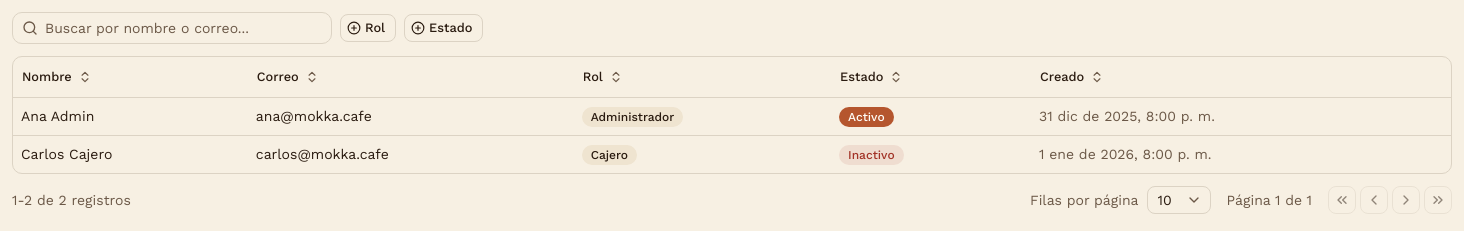
Test: UsersTable › filtra por texto libre usando el buscador
Type "carlos" into the field with placeholder "Buscar por nombre o correo...".
click(172, 28); type("carlos")  # box top-left (12, 12), bottom-right (332, 44)
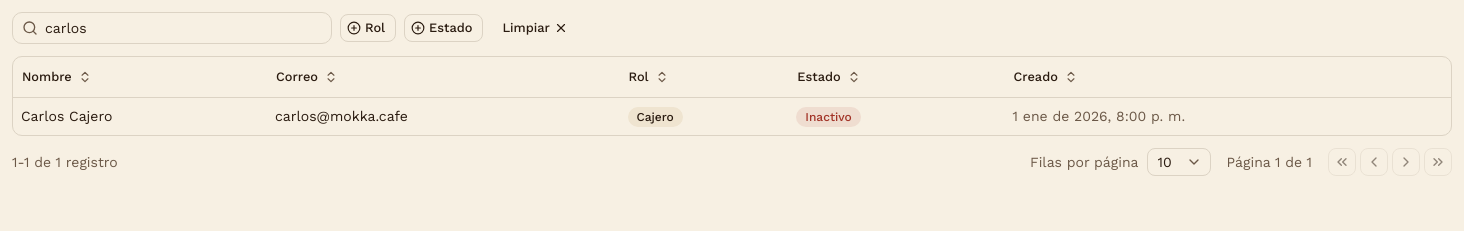
Expected: the text "Carlos Cajero" is shown, top-left (13, 97), bottom-right (267, 134)
Expected: the text "Ana Admin" is gone
